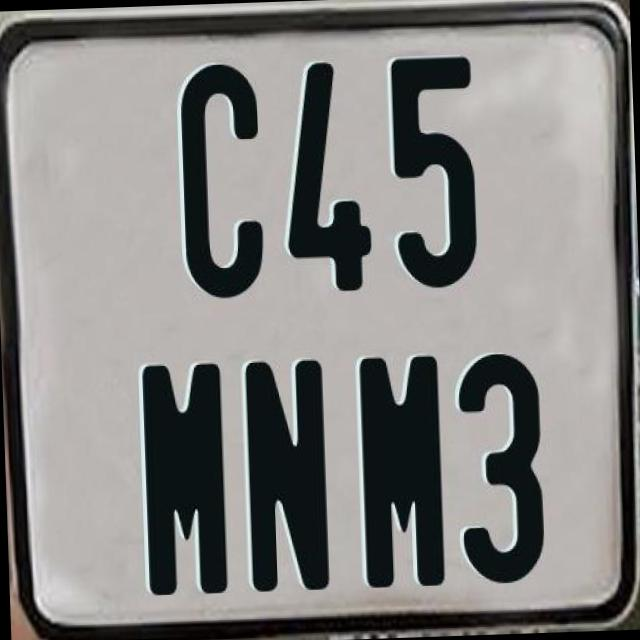3: (454, 348, 544, 584)
4: (282, 56, 376, 296)
5: (386, 52, 482, 290)
C: (179, 62, 268, 300)
M: (137, 360, 225, 597), (359, 349, 445, 589)
N: (244, 356, 338, 590)
